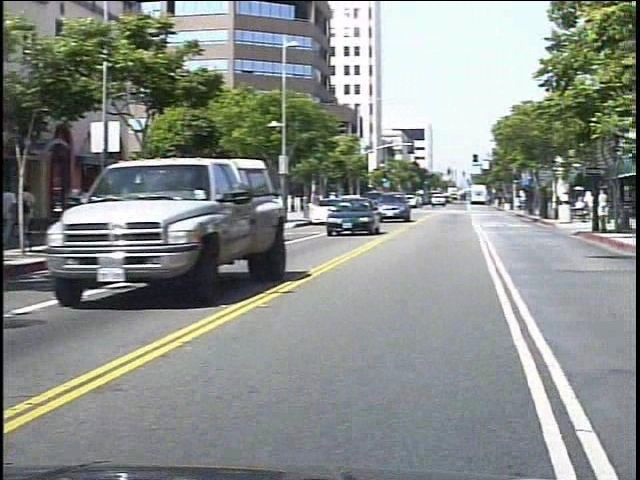person: (4, 181, 31, 247), (24, 182, 46, 247)
